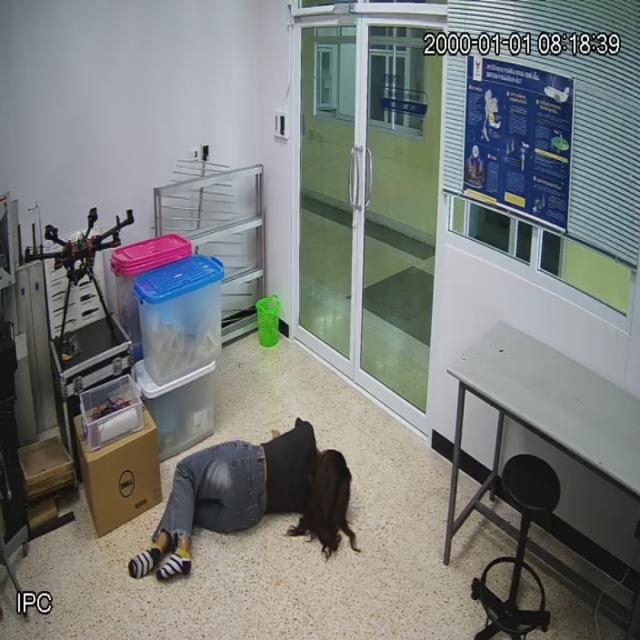fall: (132, 409, 366, 607)
